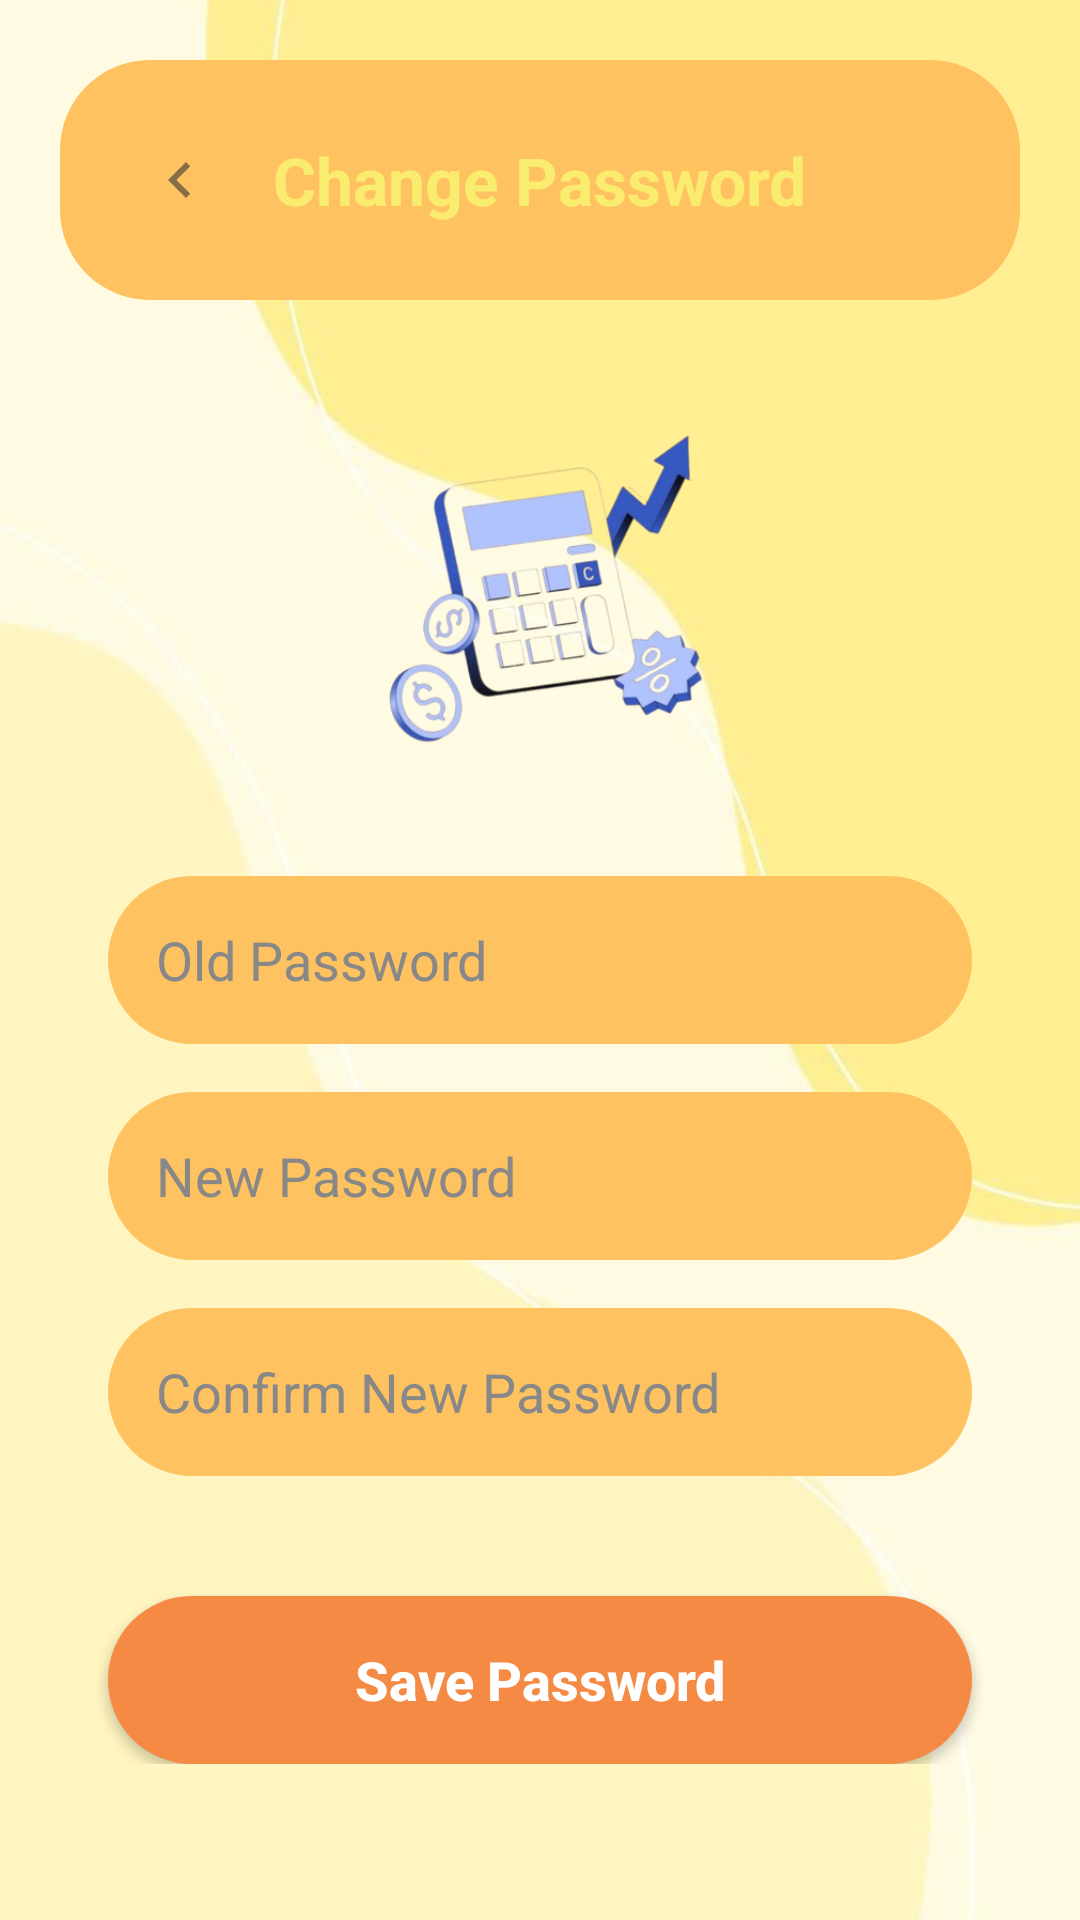

Where to tap for icons on this 1080*1920 app screen, as point (x, y):
backarrow name: point (179, 180)
calculator: point (540, 600)
